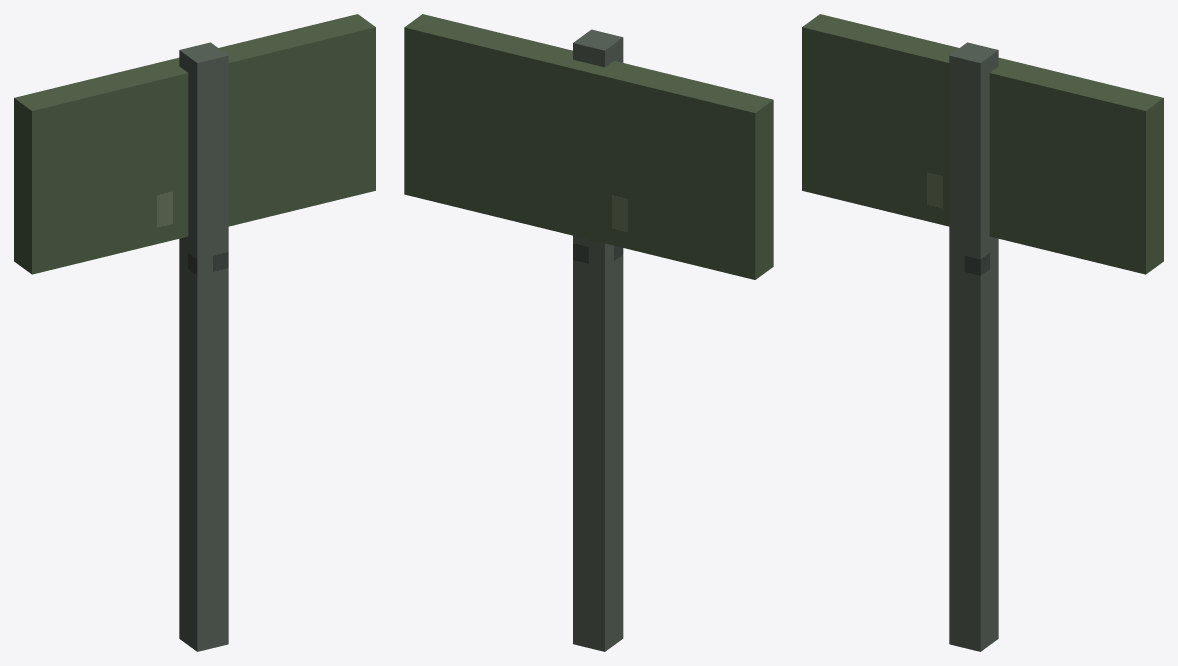
The model's file is signpost.gltf.
3 renders of one model, left to right at view 1: azimuth 30°, elevation 25°; view 2: azimuth 150°, elevation 25°; view 3: azimuth 330°, elevation 25°, orthographic. The views are drawn at different scales.
Parts seen in each view (by area): view 1: sign, pole; view 2: sign, pole; view 3: sign, pole.
Part boxes in pixels (bbox=[...]): sign: bbox=[14, 14, 375, 274]; pole: bbox=[179, 42, 228, 651]; sign: bbox=[404, 14, 773, 279]; pole: bbox=[573, 29, 623, 651]; sign: bbox=[802, 14, 1163, 274]; pole: bbox=[949, 42, 998, 651].
Bounding box in the file's own units: 1.38 × 2.25 × 0.1875.
Materials: 2 (2 with a texture image).
